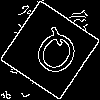Q: (25, 25, 85, 87)
